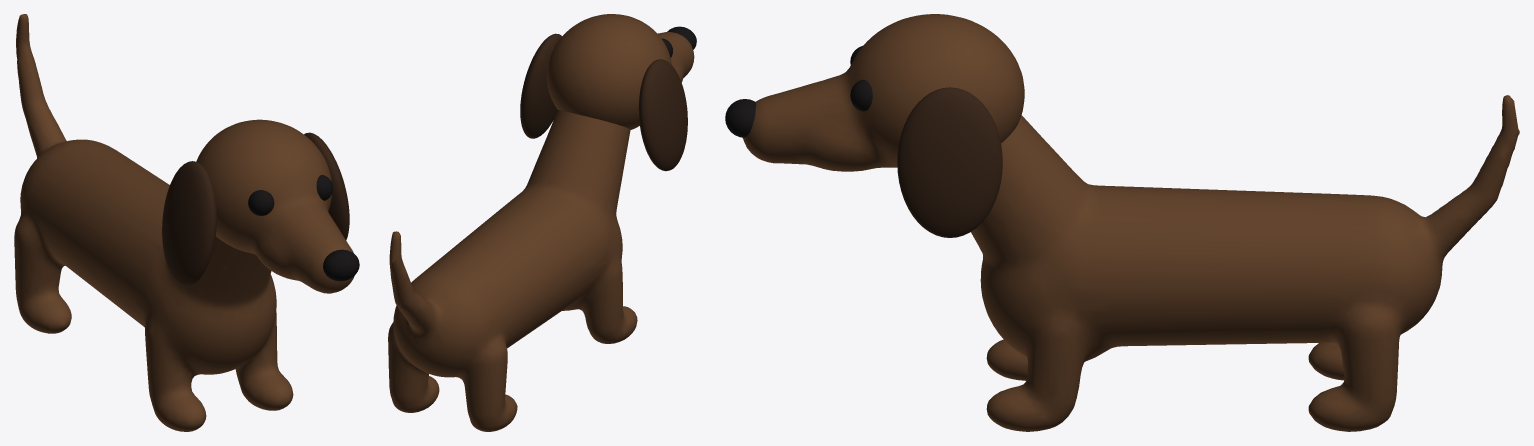
The model's file is wackeldackel.glb.
3 renders of one model, left to right at view 1: azimuth 30°, elevation 25°; view 2: azimuth 150°, elevation 25°; view 3: azimuth 270°, elevation 25°, orthographic. The views are drawn at different scales.
Visible parts, largest first — view 1: Body, Head; view 2: Body, Head; view 3: Body, Head.
Boxes of the visible parts, left/top/right/bottom form: Body: left=14, top=14, right=293, bottom=431; Head: left=162, top=119, right=359, bottom=293; Body: left=388, top=15, right=637, bottom=431; Head: left=520, top=14, right=696, bottom=171; Body: left=903, top=24, right=1519, bottom=431; Head: left=725, top=14, right=1024, bottom=237.
Size of the model in its own units: 0.0762 by 0.1393 by 0.2636.
